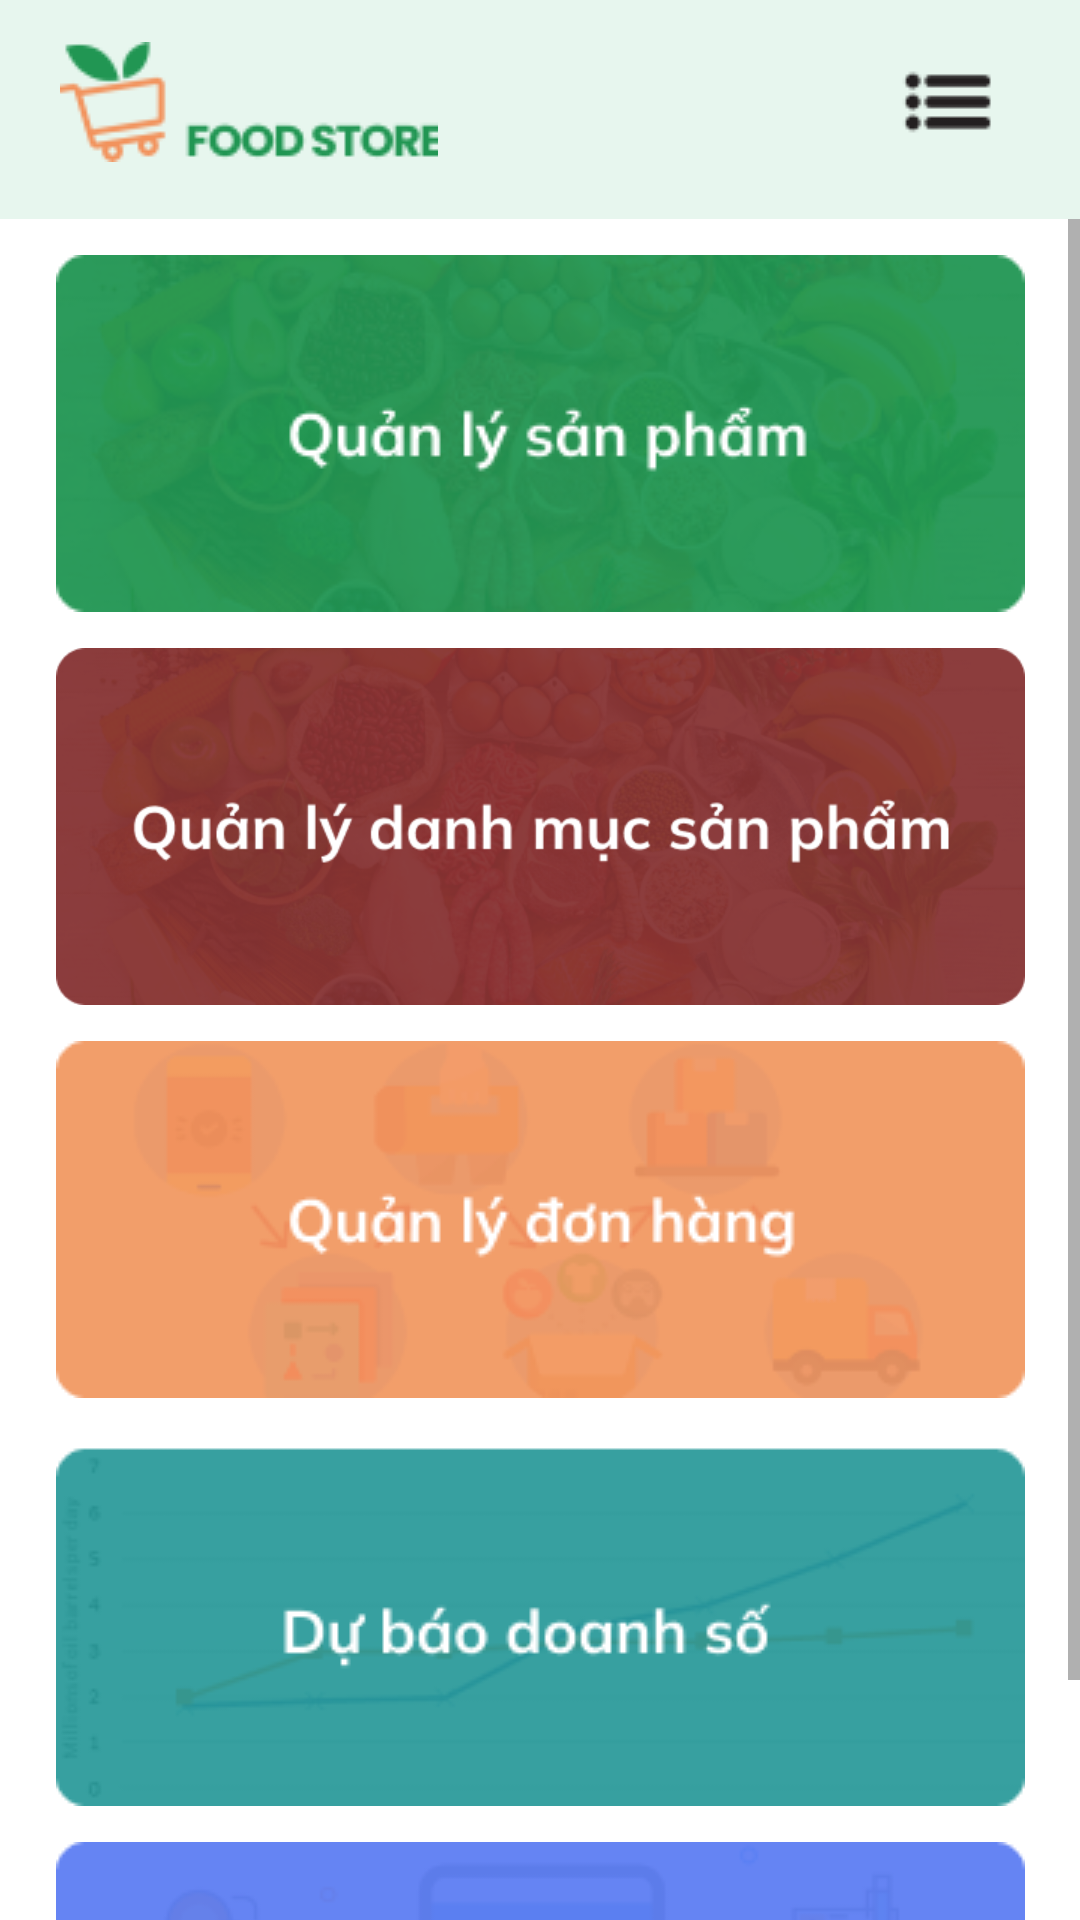

Locate icon controls on the screen. Image size 1080 x 1920, boxes as region(x1, y1, x2, y2).
options: region(905, 72, 991, 132)
